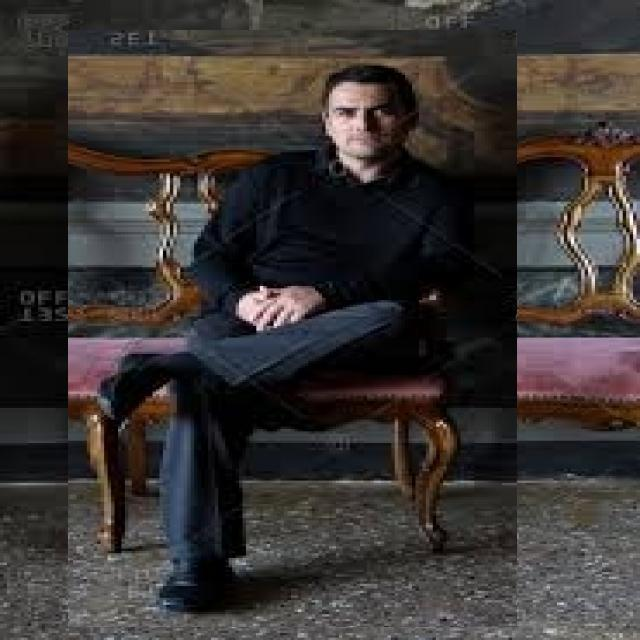NotFall: (188, 12, 484, 640)
